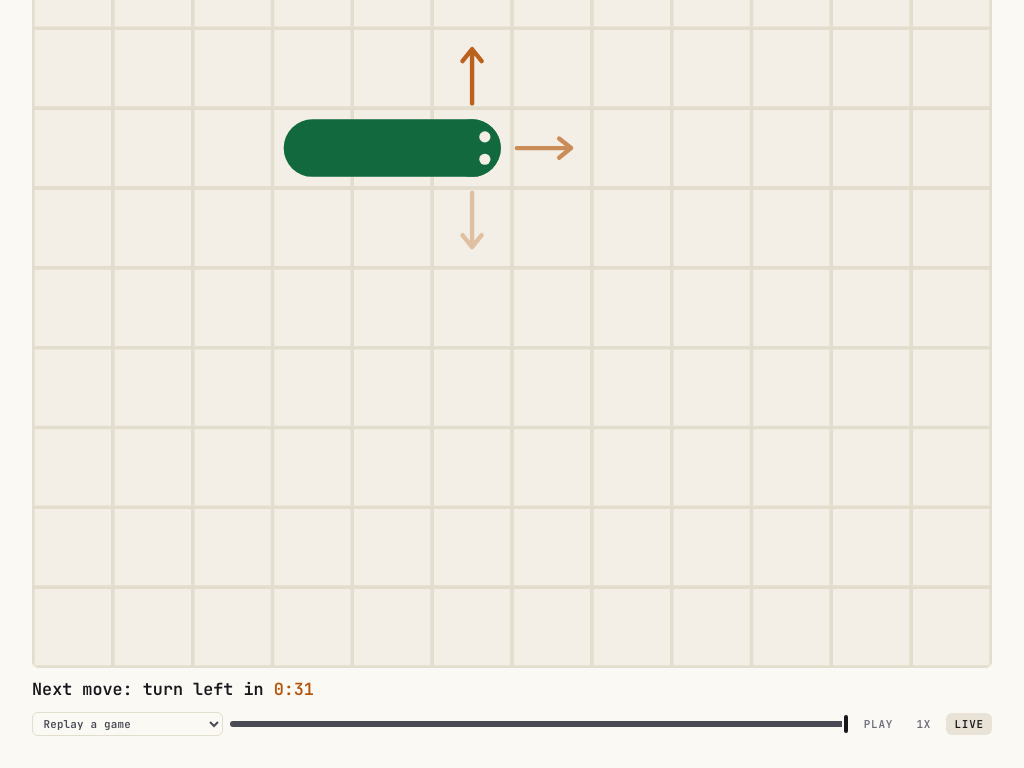
Test: the replay › REPLAY DRAWS THE ENTRY THE SCRUBBER NAMES
(page scrolled)
Select "Game 1 · 12x12 · best 3" in the dropdown with class "snake-games": (127, 724) [32, 712, 223, 736]
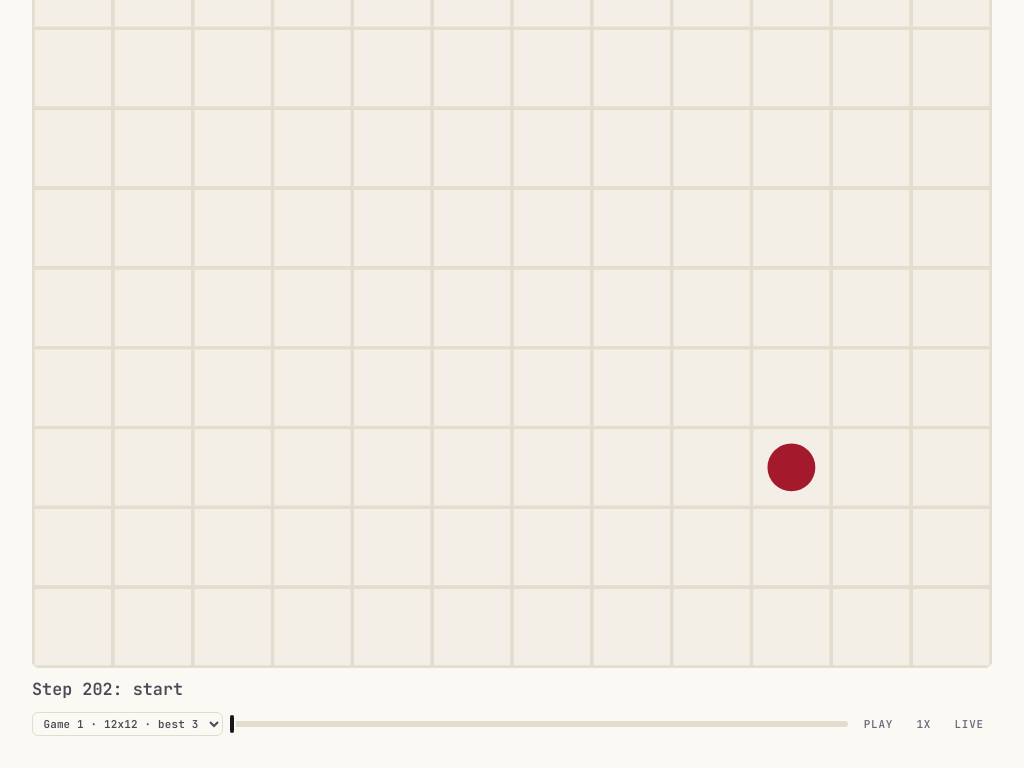
Result: the slider with class "snake-scrub" has attribute max="37"
Set the slider with class "snake-scrub" to "5": (319, 724) [230, 721, 848, 727]
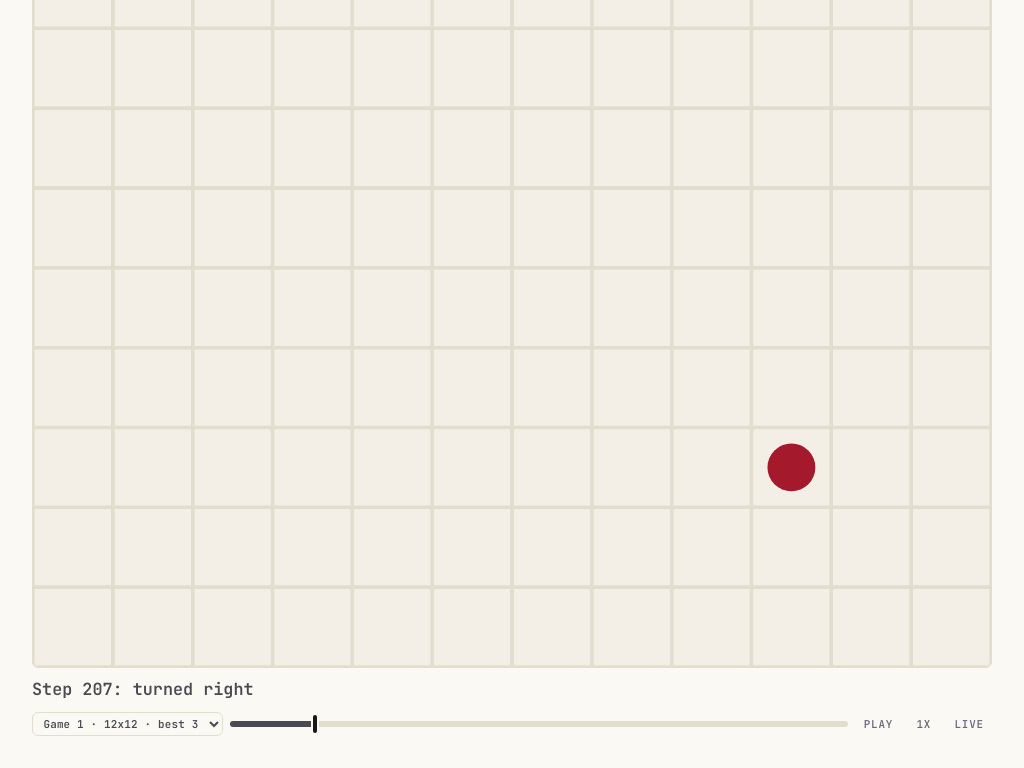
Result: the text with class "snake-next" reads "Step 207: turned right" at [32, 678, 254, 700]
